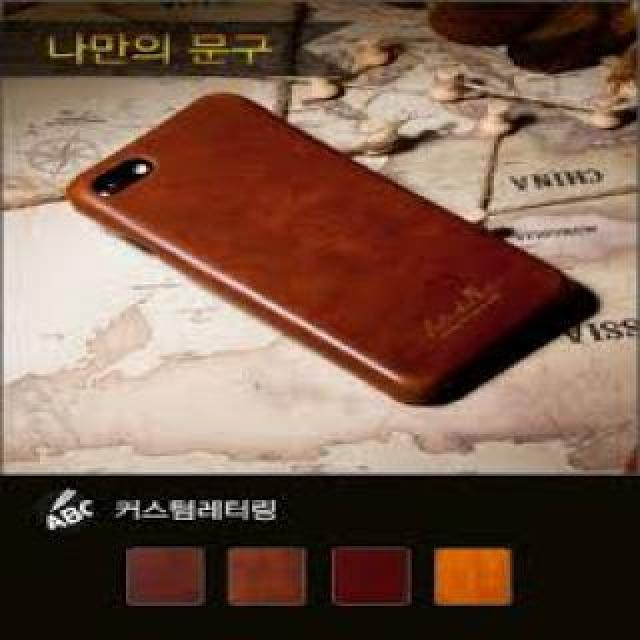smart phone: (67, 80, 605, 405)
